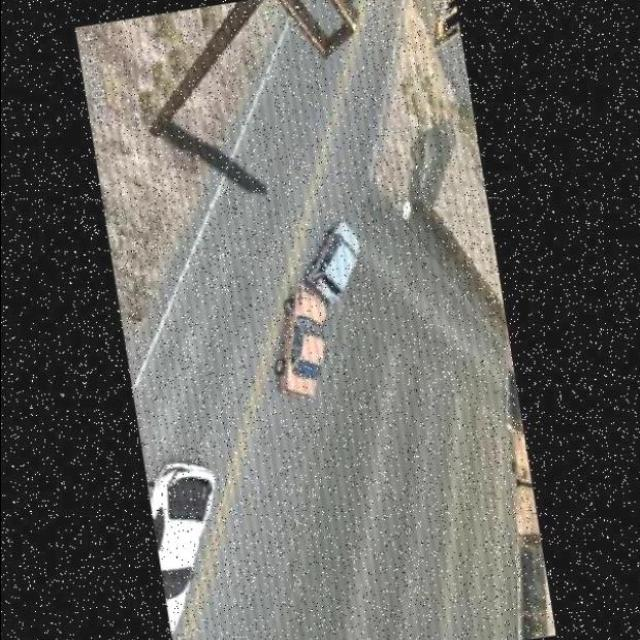accident: (249, 220, 383, 406)
